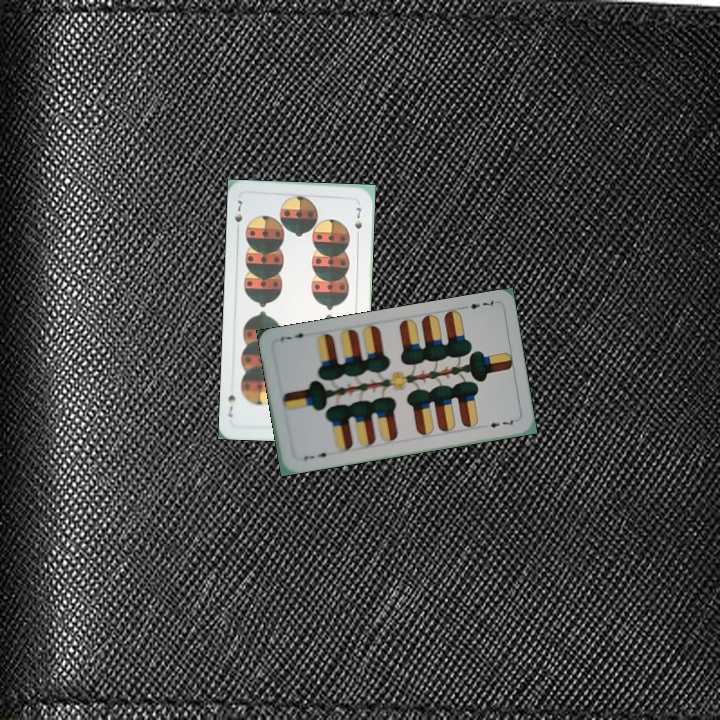E7: (458, 296, 499, 312), (299, 448, 333, 464)
S7: (230, 196, 245, 235)
